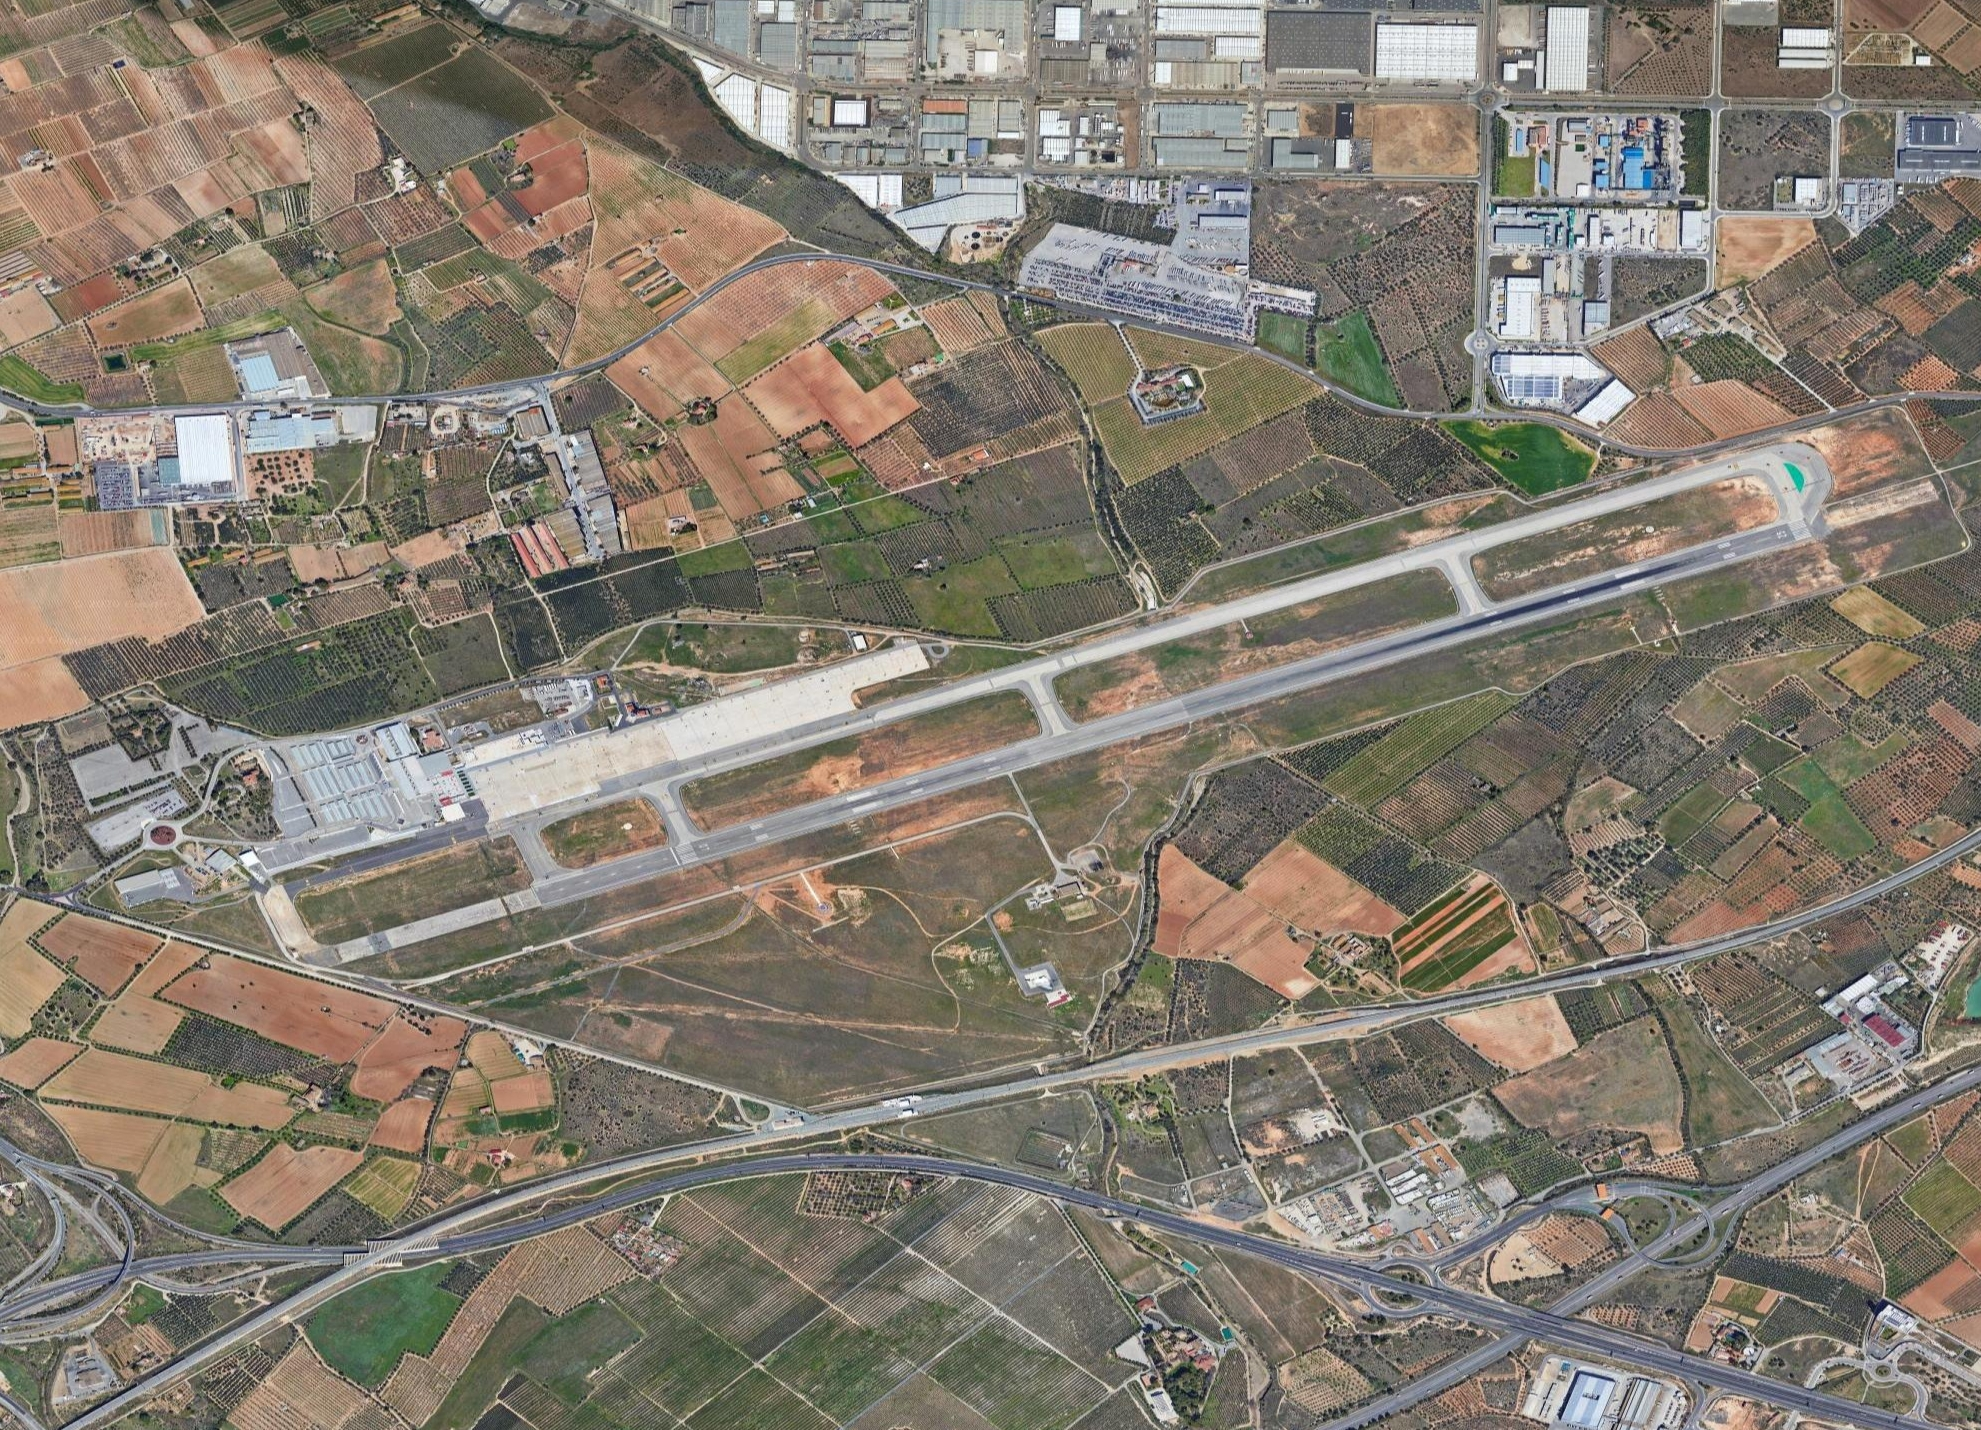airport: (257, 435, 1838, 975)
industrial: (631, 2, 1981, 391)
motorway: (2, 1136, 321, 1332), (68, 1302, 298, 1430), (295, 1175, 526, 1302), (524, 1116, 755, 1244), (1666, 1344, 1963, 1430), (1297, 1330, 1523, 1430), (1616, 1156, 1800, 1279), (1283, 1244, 1533, 1332), (1789, 816, 1981, 927), (1796, 1053, 1981, 1167), (755, 1142, 1072, 1207), (1547, 916, 1793, 998), (1295, 970, 1547, 1046), (761, 1076, 1030, 1146), (1027, 1026, 1297, 1093), (1070, 1187, 1286, 1265), (1527, 1272, 1667, 1368)
